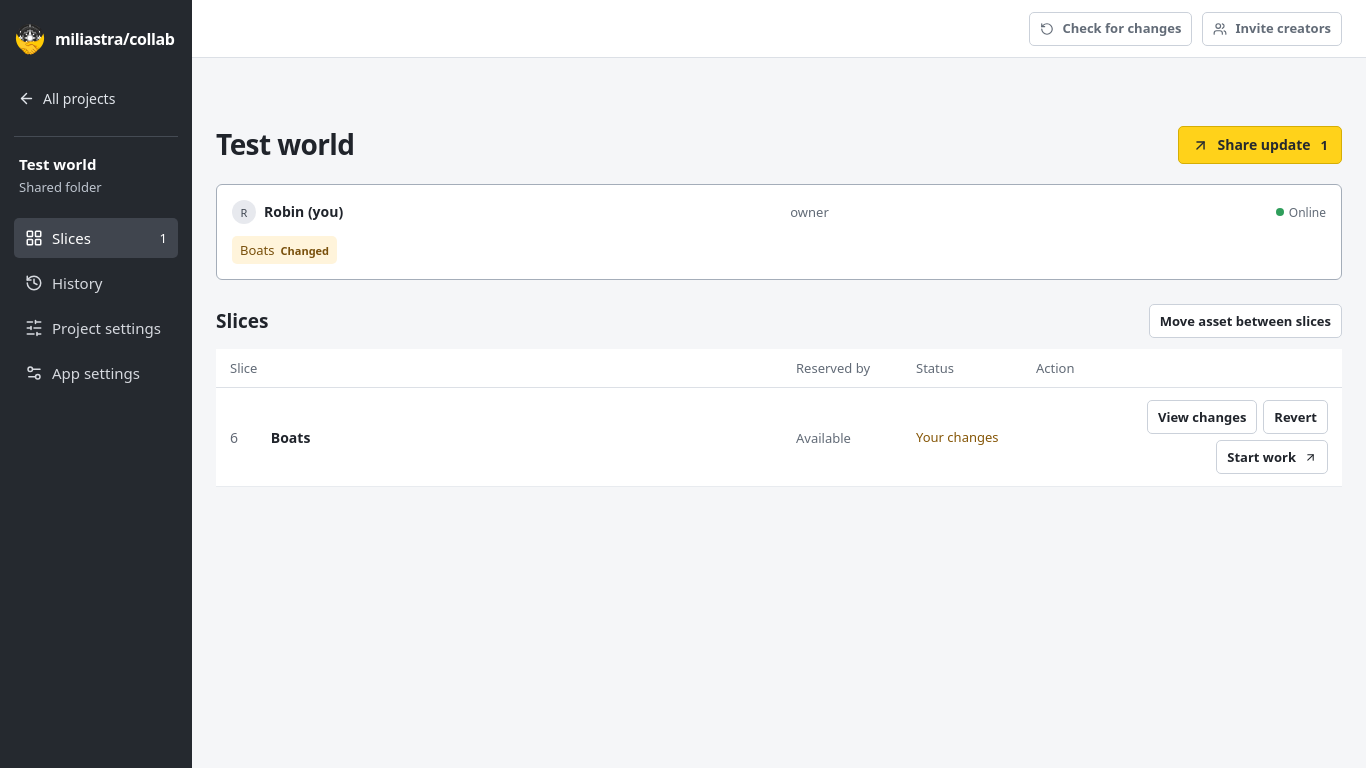
Test case: returns to the project list, flushes a just-edited draft, and reopens the saved workspace
Check: the heading "Test world" is shown, box [216,128,354,162]
Click the button "Share update 1": coordinates (1260, 145) [1178,126,1342,164]
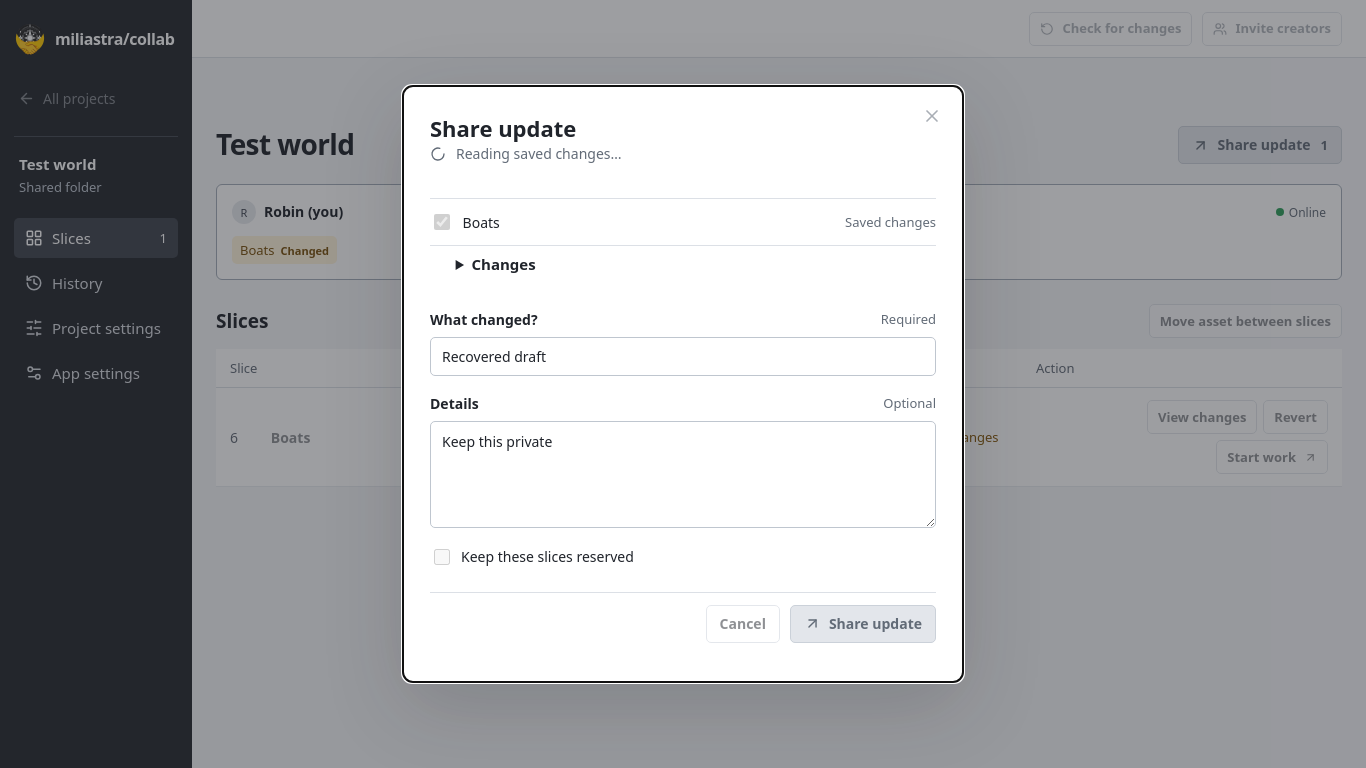
Replace the text in the field with placeholder "Fixed passengers falling through the boat deck" with "Latest unsent draft": coordinates (683, 356) [430,337,936,376]
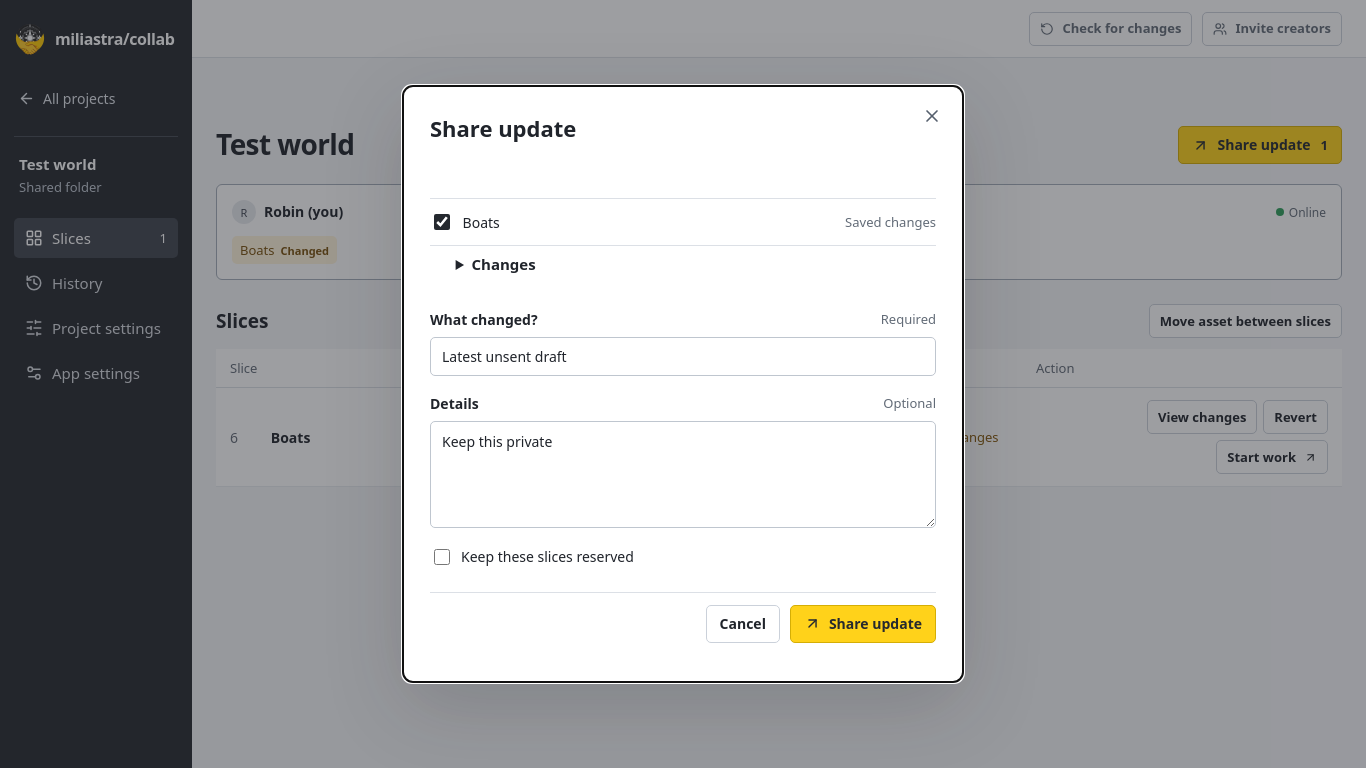
Check: the button named "Close" is enabled
Click the button named "Close": coordinates (932, 118) [917,101,947,135]
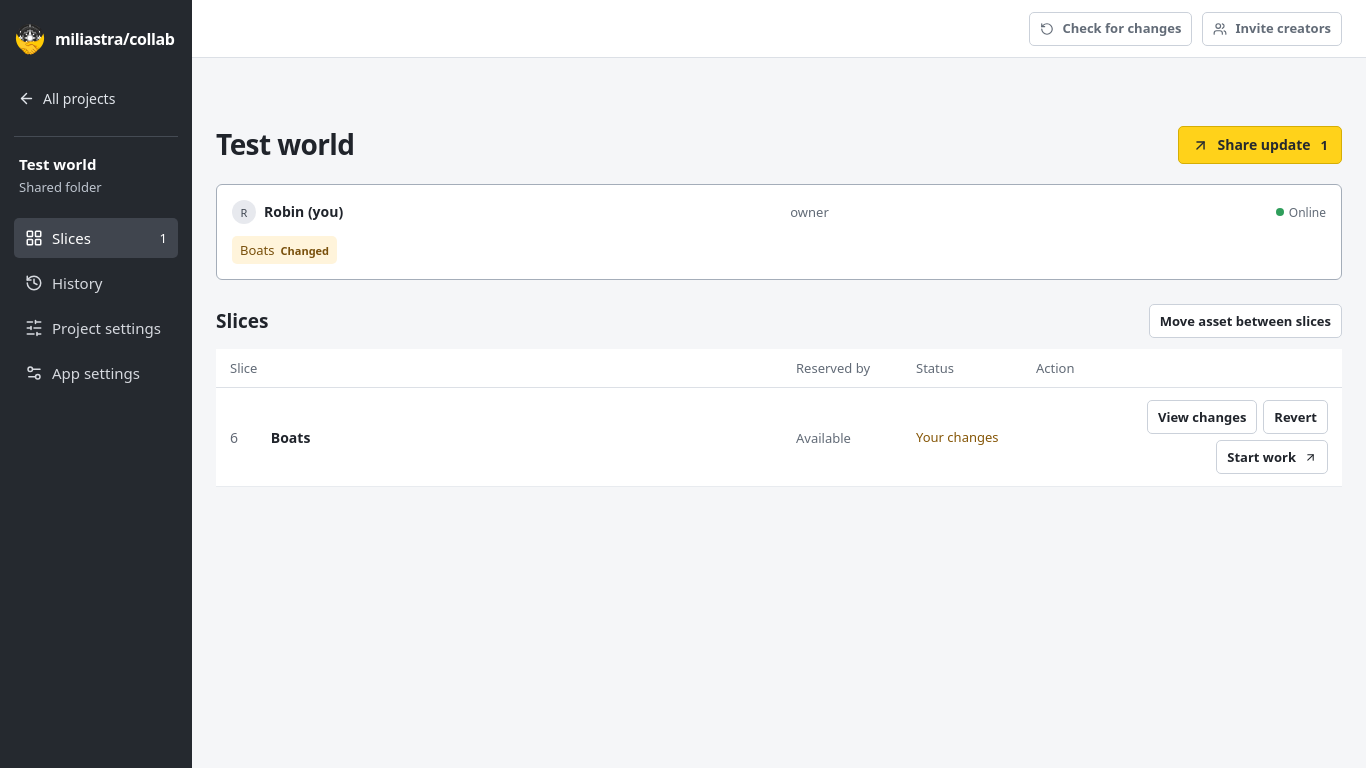
Click the button "All projects": coordinates (96, 98) [14,78,178,118]
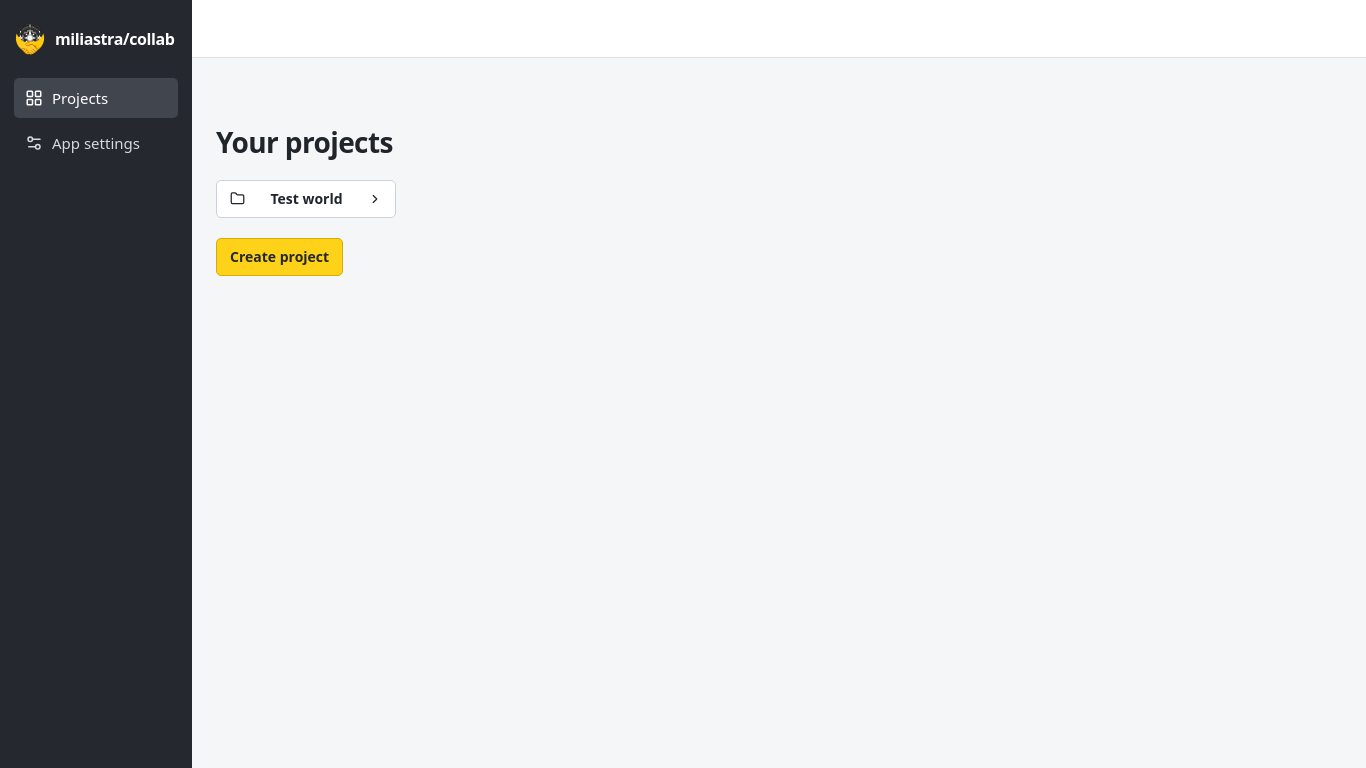
Check: the heading "Your projects" is shown, box [216,126,393,160]
Click the button "Test world": coordinates (306, 199) [216,180,396,218]
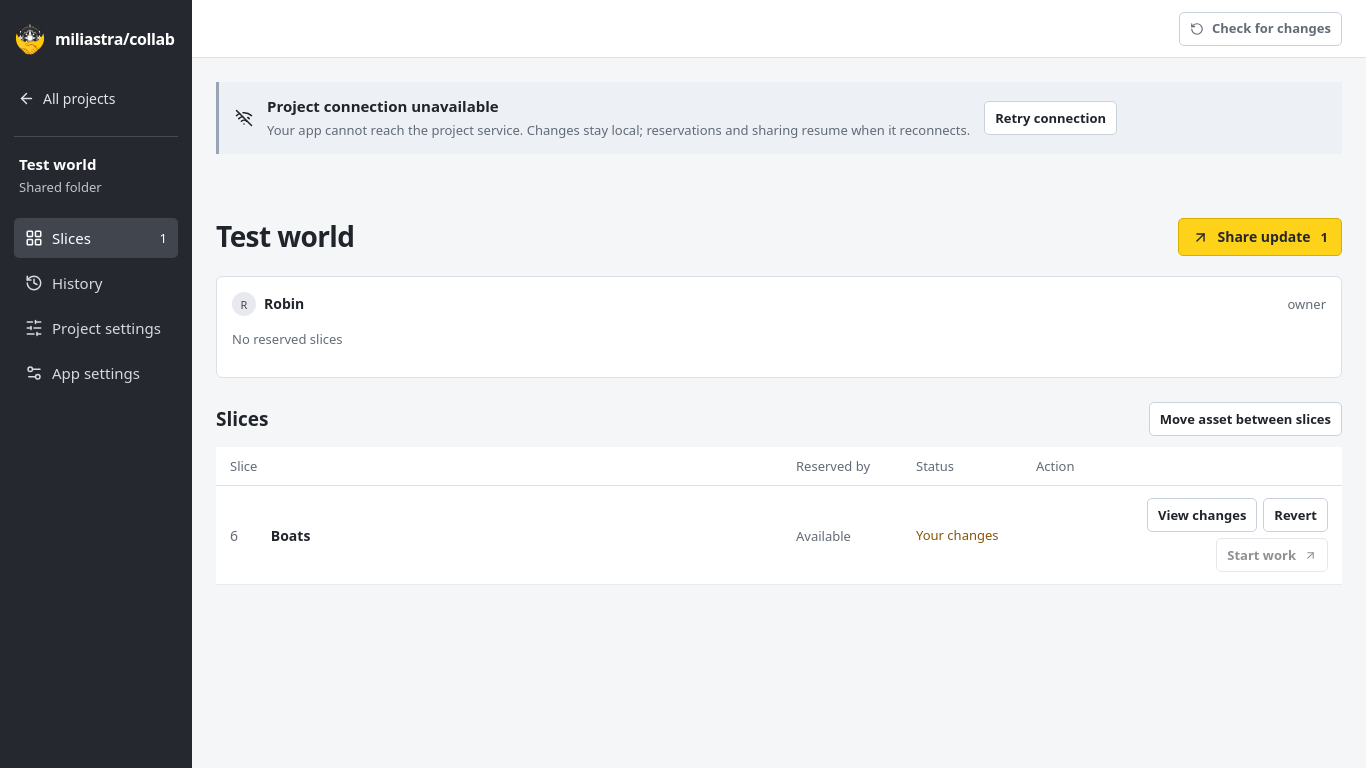
Check: the heading "Test world" is shown, box [216,220,354,254]
Click the button "Share update 1": coordinates (1260, 237) [1178,218,1342,256]
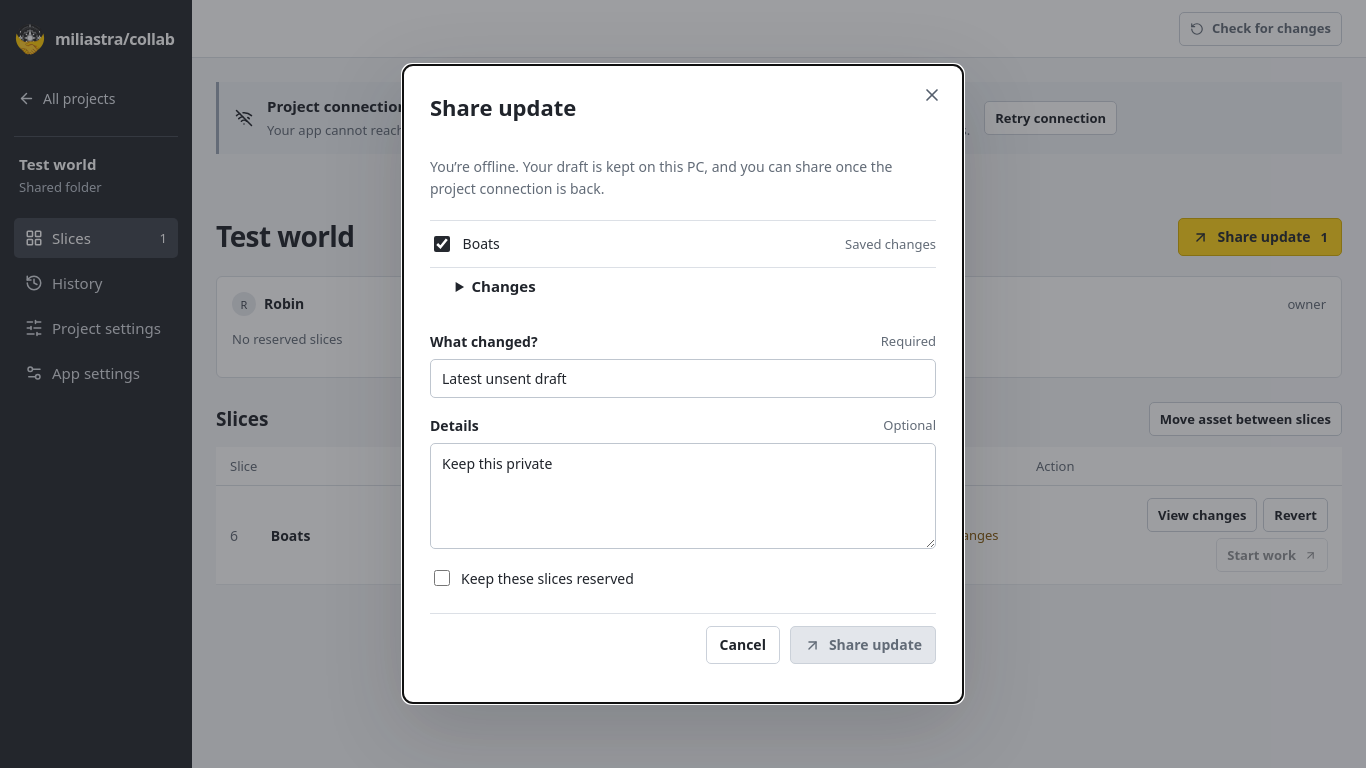
Check: the field with placeholder "Fixed passengers falling through the boat deck" holds "Latest unsent draft", box [430,359,936,398]
